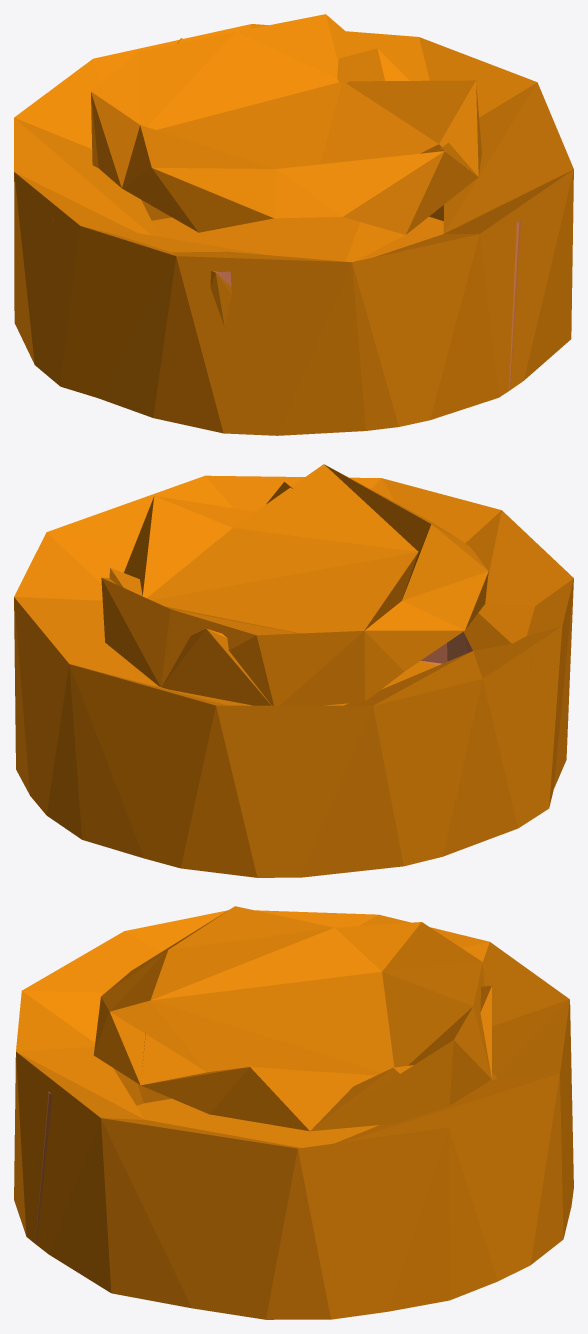
Rendered from KukaKR6R900Link6.dae.
3 renders of one model, top to bottom at view 1: azimuth 30°, elevation 25°; view 2: azimuth 150°, elevation 25°; view 3: azimuth 270°, elevation 25°, orthographic.
Visible parts, largest first — view 1: KUKAKR6R900Link6; view 2: KUKAKR6R900Link6; view 3: KUKAKR6R900Link6.
Boxes of the visible parts, left/top/right/bottom form: KUKAKR6R900Link6: left=14, top=14, right=573, bottom=435; KUKAKR6R900Link6: left=14, top=464, right=573, bottom=877; KUKAKR6R900Link6: left=14, top=906, right=573, bottom=1319.
Size of the model in its own units: 0.0553 by 0.0545 by 0.0236.
